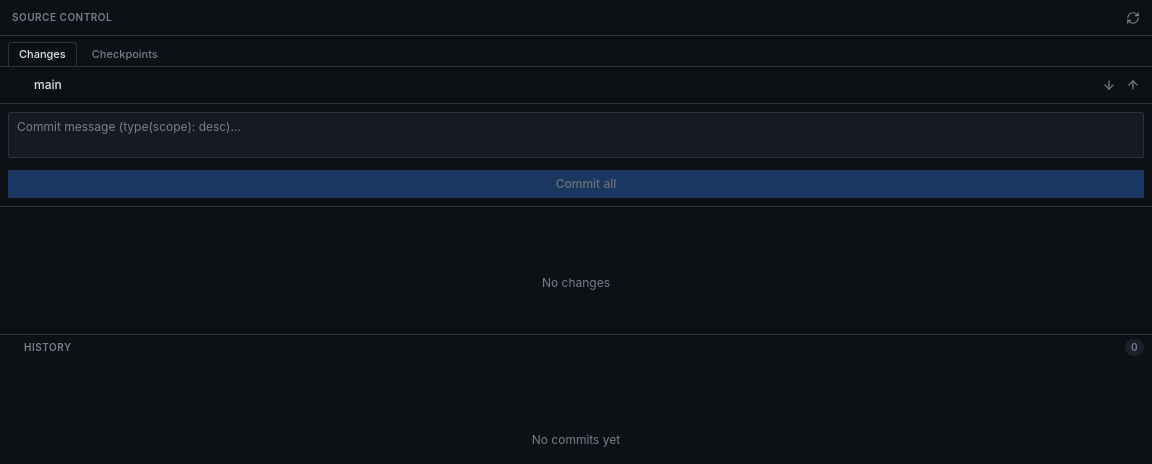
Scenario: GitPane — Checkpoints sub-tab › mounts CheckpointPanel content when the Checkpoints sub-tab is clicked
This screenshot has width=1152, height=464.
expect the text box with placeholder "Commit message (type(scope): desc)…" is shown: met, box [8, 112, 1144, 158]
Step 1. Click the tab "Checkpoints" → (125, 54), box [81, 42, 169, 66]
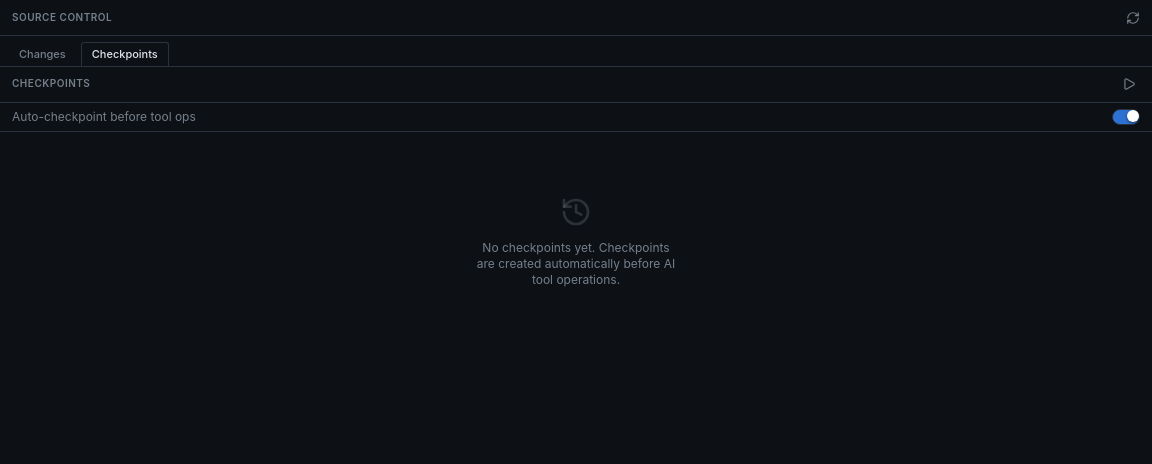
expect the field with placeholder "Commit message" is not shown: met
expect the text "No checkpoints yet" is shown: met, box [477, 240, 675, 287]
